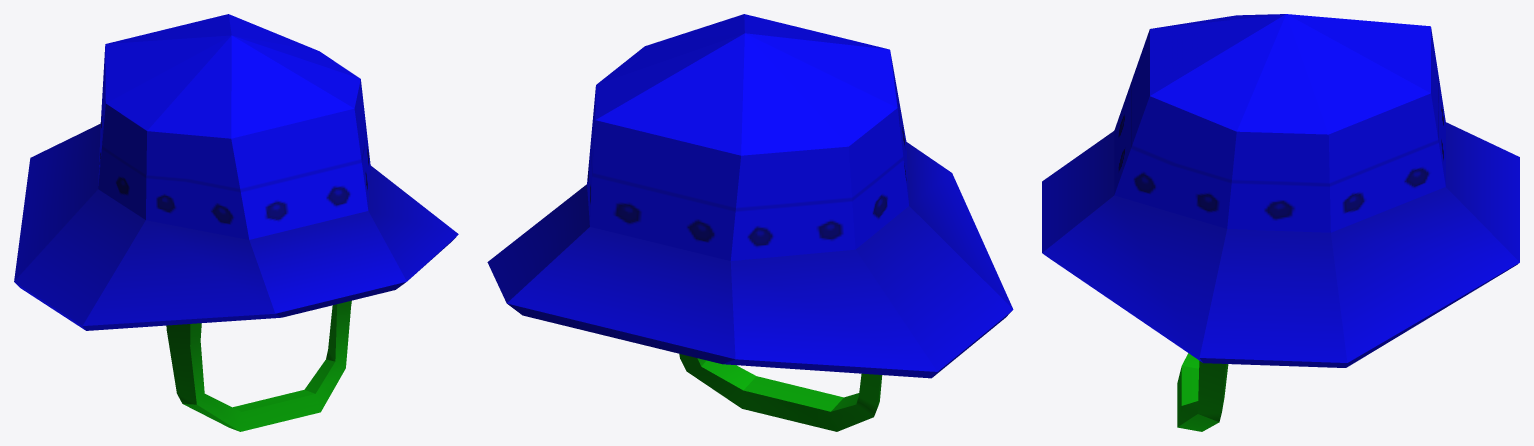
Rendered from KettleHat_M.fbx.
3 renders of one model, left to right at view 1: azimuth 30°, elevation 25°; view 2: azimuth 150°, elevation 25°; view 3: azimuth 270°, elevation 25°, orthographic. The views are drawn at different scales.
Parts seen in each view (by area): view 1: KettleHat_M; view 2: KettleHat_M; view 3: KettleHat_M.
Part boxes in pixels (x1,y1,x2,y2): KettleHat_M: [14, 14, 458, 431]; KettleHat_M: [487, 14, 1013, 431]; KettleHat_M: [1042, 14, 1519, 431].
Size of the model in its own units: 42.84 by 38.17 by 41.74.
